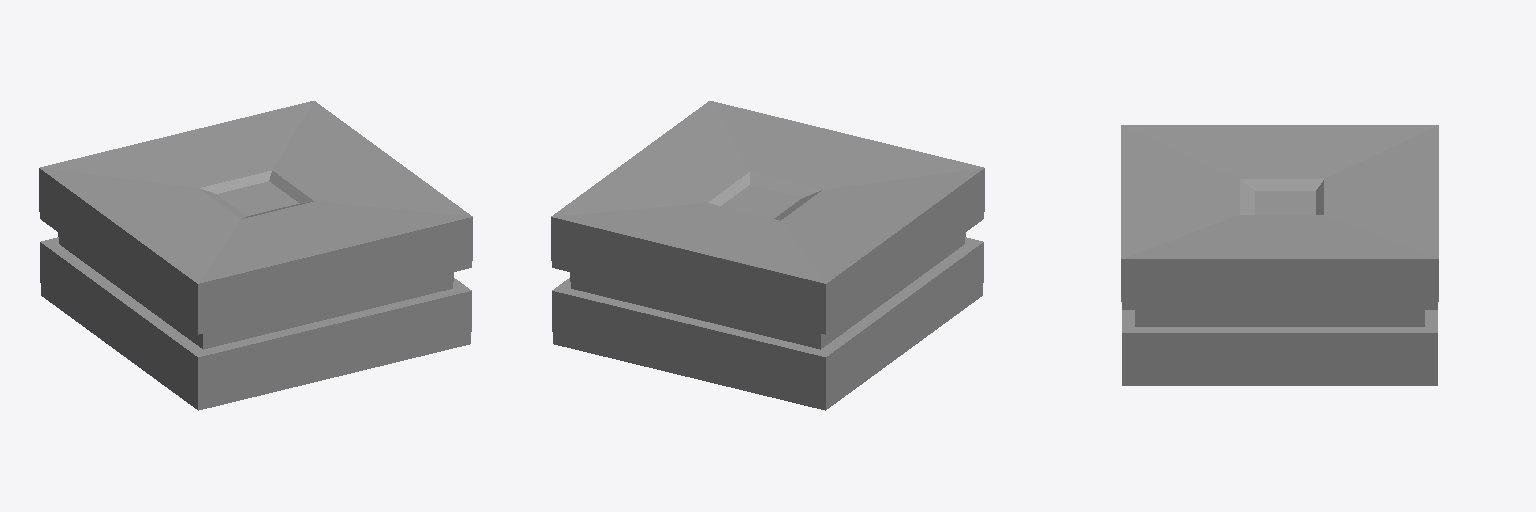
Rendered from Caja.obj.
3 renders of one model, left to right at view 1: azimuth 30°, elevation 25°; view 2: azimuth 150°, elevation 25°; view 3: azimuth 270°, elevation 25°, orthographic.
Visible parts, largest first — view 1: Plane.003_Plane.025; view 2: Plane.003_Plane.025; view 3: Plane.003_Plane.025.
Boxes of the visible parts, <box> form: Plane.003_Plane.025: <box>39,101,472,410</box>; Plane.003_Plane.025: <box>551,101,984,410</box>; Plane.003_Plane.025: <box>1121,125,1438,385</box>.
Bounding box in the file's own units: 1 × 0.4425 × 1.